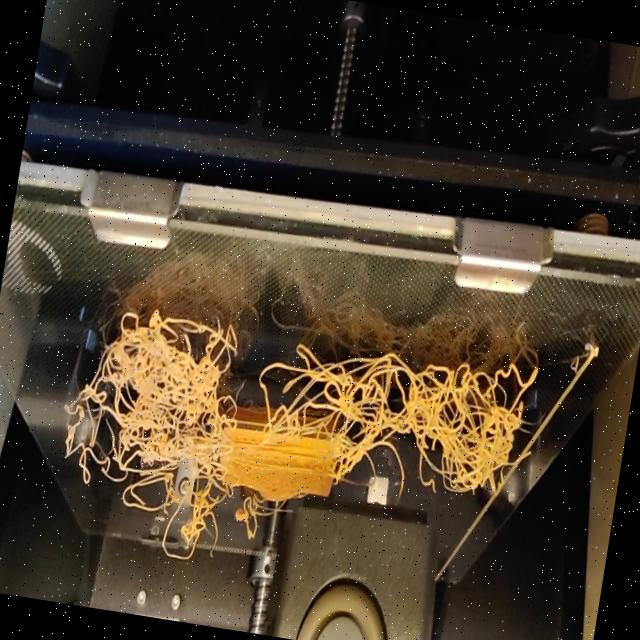spaghetti: (55, 286, 548, 539), (110, 477, 230, 568), (232, 501, 279, 554)
